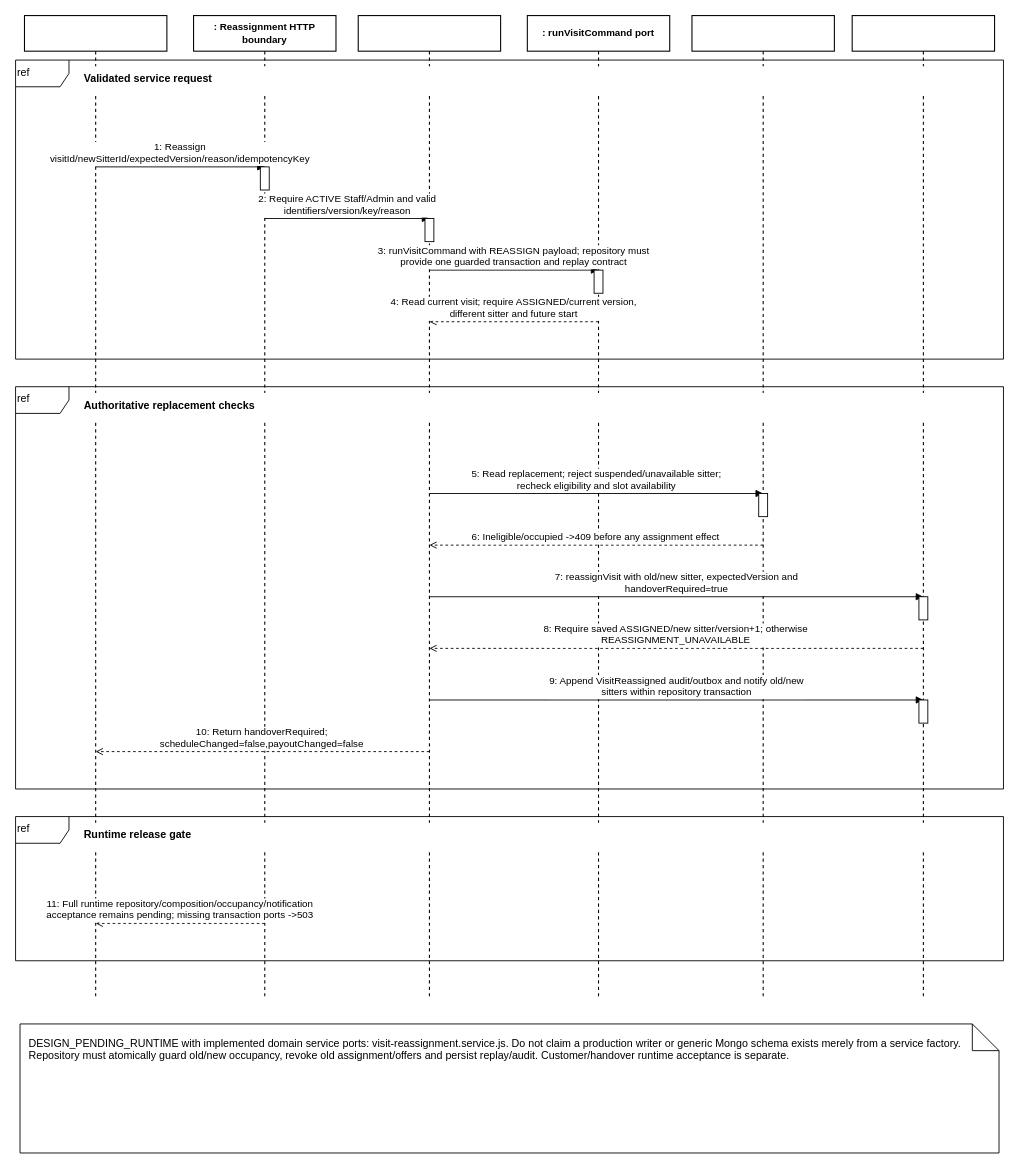
Image size: 1019x1169. Some labels were removed from this diagram. The box of each missing label's shape, as (x1, y1, x2, y2) in pixels:
: Assignment / Audit / Notification port: (851, 15, 995, 997)
: Eligibility / slot port: (691, 15, 834, 997)
: VisitReassignmentService: (357, 15, 501, 997)
Staff / Admin: (23, 15, 167, 997)
